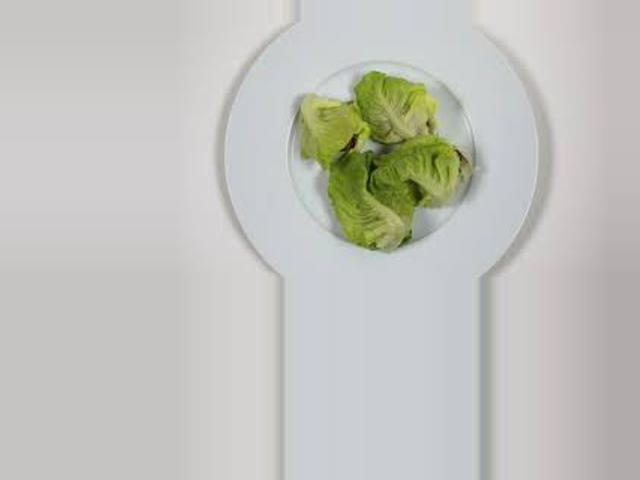lettuce: (290, 74, 473, 266)
